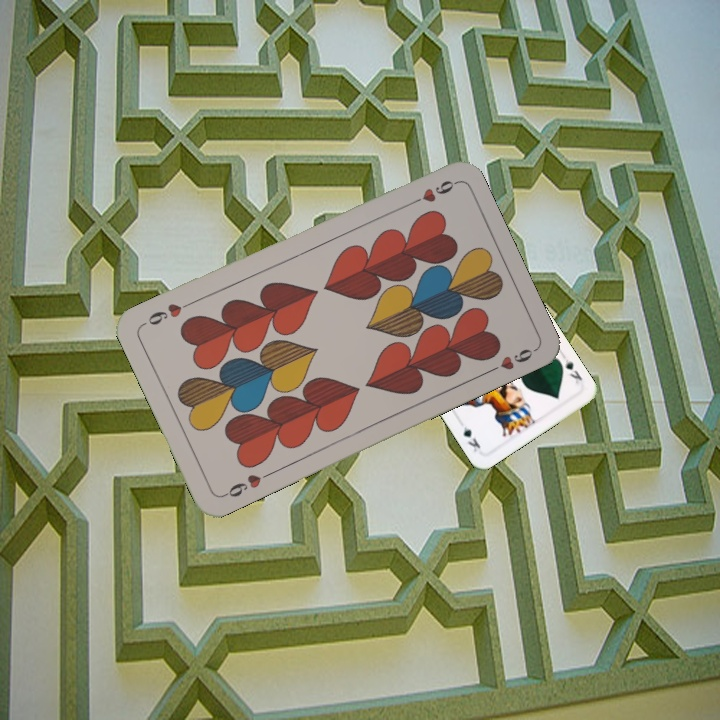GK: (559, 355, 585, 388)
H9: (403, 176, 458, 210), (218, 468, 274, 500)
